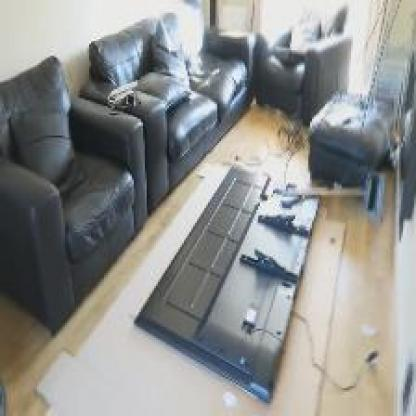other: (320, 243, 354, 289), (265, 155, 301, 178)
